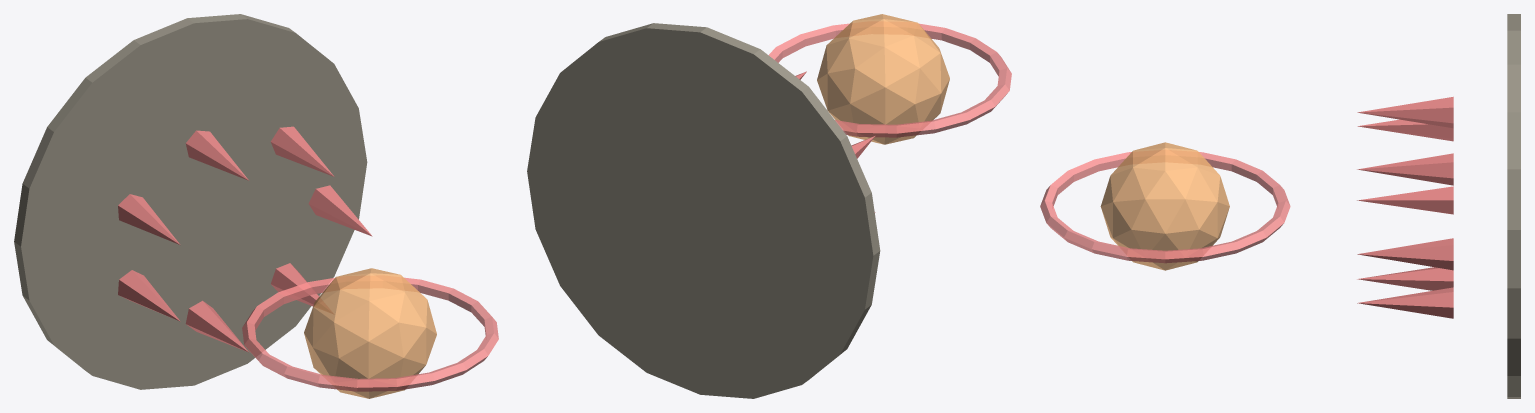
Rendered from 06_weather_terrain_nature_module.glb.
3 renders of one model, left to right at view 1: azimuth 30°, elevation 25°; view 2: azimuth 150°, elevation 25°; view 3: azimuth 270°, elevation 25°, orthographic. The views are drawn at different scales.
Parts seen in each view (by area): view 1: terrain_patch, sun_color_preview, weather_halo, nature_or_weather_element_2, nature_or_weather_element_1, nature_or_weather_element_0, nature_or_weather_element_3, nature_or_weather_element_5, nature_or_weather_element_4, nature_or_weather_element_6; view 2: terrain_patch, sun_color_preview, weather_halo; view 3: sun_color_preview, weather_halo, terrain_patch, nature_or_weather_element_0, nature_or_weather_element_1, nature_or_weather_element_2, nature_or_weather_element_6, nature_or_weather_element_4, nature_or_weather_element_5, nature_or_weather_element_3.
Boxes of the visible parts, bbox=[...] form: terrain_patch: bbox=[14, 14, 367, 389]; sun_color_preview: bbox=[304, 268, 436, 398]; weather_halo: bbox=[242, 277, 498, 391]; nature_or_weather_element_2: bbox=[185, 130, 248, 180]; nature_or_weather_element_1: bbox=[271, 126, 334, 176]; nature_or_weather_element_0: bbox=[308, 185, 372, 236]; nature_or_weather_element_3: bbox=[118, 194, 180, 244]; nature_or_weather_element_5: bbox=[185, 300, 248, 352]; nature_or_weather_element_4: bbox=[118, 270, 180, 321]; nature_or_weather_element_6: bbox=[271, 263, 319, 306]; terrain_patch: bbox=[527, 23, 880, 398]; sun_color_preview: bbox=[817, 14, 949, 144]; weather_halo: bbox=[768, 23, 1011, 137]; sun_color_preview: bbox=[1100, 142, 1229, 270]; weather_halo: bbox=[1040, 152, 1290, 263]; terrain_patch: bbox=[1507, 14, 1520, 398]; nature_or_weather_element_0: bbox=[1357, 238, 1453, 270]; nature_or_weather_element_1: bbox=[1357, 153, 1453, 185]; nature_or_weather_element_2: bbox=[1357, 96, 1453, 128]; nature_or_weather_element_6: bbox=[1357, 287, 1453, 318]; nature_or_weather_element_4: bbox=[1357, 186, 1453, 214]; nature_or_weather_element_5: bbox=[1357, 267, 1453, 290]; nature_or_weather_element_3: bbox=[1357, 119, 1453, 141].
Bounding box in the file's own units: 1.44 × 1.44 × 1.78.
